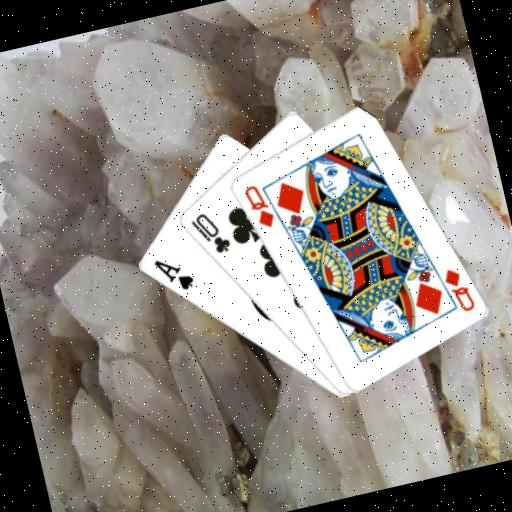10C: (185, 205, 234, 261)
AS: (150, 250, 198, 298)
QD: (438, 262, 477, 318), (239, 178, 278, 233)
